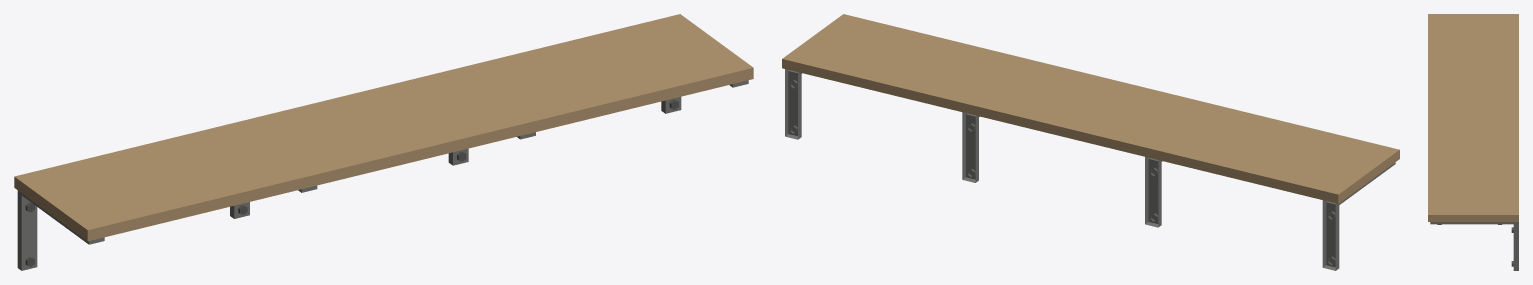
The model's file is SM_Prop_WallShelves_02.fbx.
3 views of the same model, side by side, from view 1: azimuth 30°, elevation 25°; view 2: azimuth 150°, elevation 25°; view 3: azimuth 270°, elevation 25° (orthographic). The views are drawn at different scales.
Parts seen in each view (by area): view 1: SM_Prop_WallShelves_02; view 2: SM_Prop_WallShelves_02; view 3: SM_Prop_WallShelves_02.
Part boxes in pixels (x1,y1,x2,y2): SM_Prop_WallShelves_02: (14, 14, 753, 270); SM_Prop_WallShelves_02: (782, 14, 1399, 270); SM_Prop_WallShelves_02: (1428, 14, 1518, 270).
Bounding box in the file's own units: 324 × 42.9 × 61.95.
